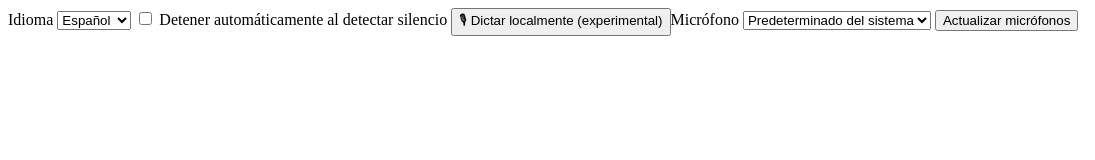
local dictation interaction › ignores saved stop callbacks from a discarded recording
Click the button "🎙 Dictar localmente (experimental)". click: (561, 22)
box: [451, 8, 670, 36]
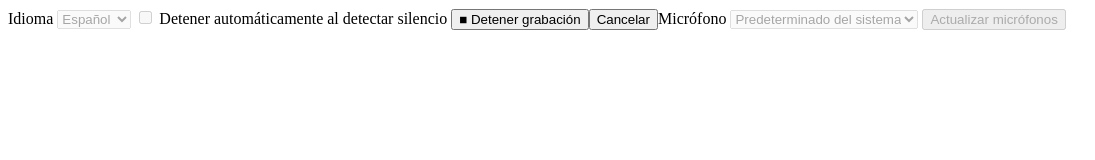
Click the button "Cancelar". click: (623, 20)
box: [589, 9, 658, 30]
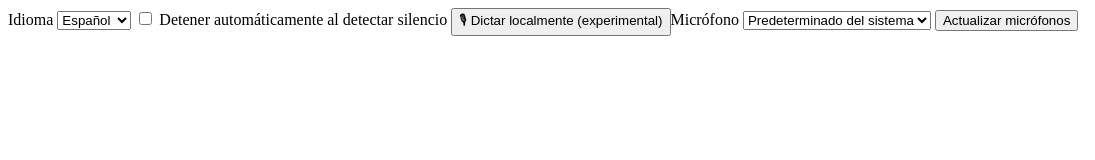
Click the button "🎙 Dictar localmente (experimental)". click: (561, 22)
box: [451, 8, 670, 36]
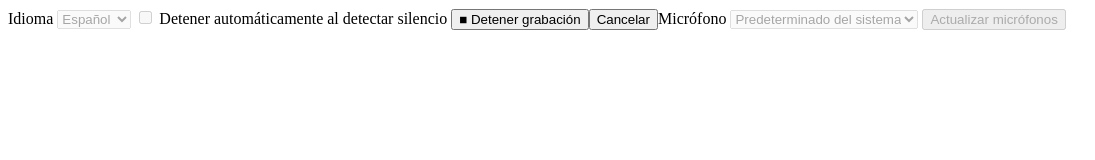
Expected: the text "Detener grabación" is shown, [451, 9, 589, 30]
